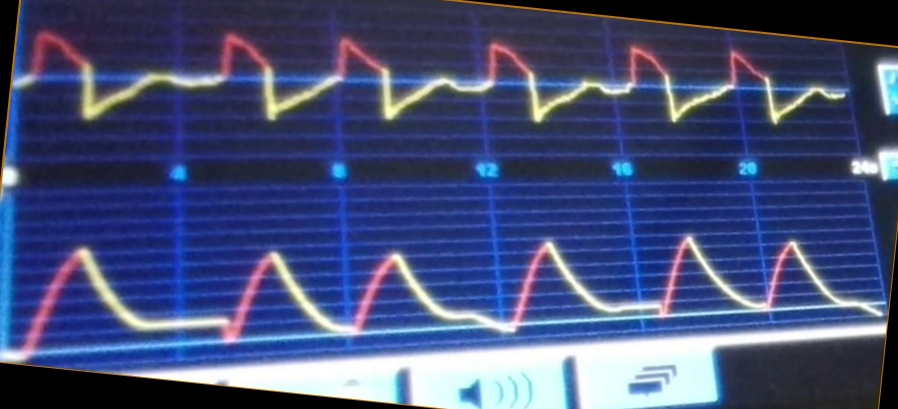Ineffective_effort Flow: (21, 23, 846, 137)
Ineffective_effort Volume: (13, 227, 882, 348)
